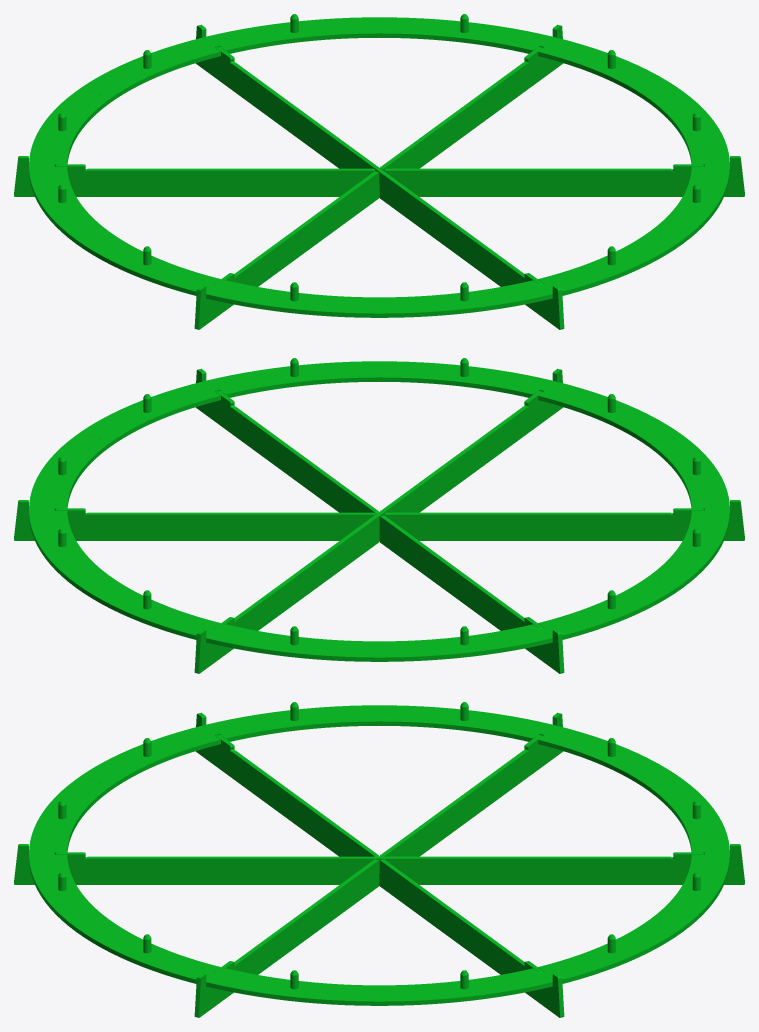
File: GABFL-DN600-0000.glb
3 views of the same model, one above another, from view 1: azimuth 30°, elevation 25°; view 2: azimuth 150°, elevation 25°; view 3: azimuth 270°, elevation 25° (orthographic).
Visible parts, largest first — view 1: GABFL-DN600-0000, GABFL-DN600-1002-1, GABFL-DN600-1005-1, GABFL-DN600-1004-3, GABFL-DN600-1004-1, GABFL-DN600-1001-7; view 2: GABFL-DN600-0000, GABFL-DN600-1005-1, GABFL-DN600-1002-1, GABFL-DN600-1001-7, GABFL-DN600-1004-1, GABFL-DN600-1004-3; view 3: GABFL-DN600-0000, GABFL-DN600-1002-1, GABFL-DN600-1005-1, GABFL-DN600-1001-7, GABFL-DN600-1004-3, GABFL-DN600-1004-1.
Boxes of the visible parts, <box> form: GABFL-DN600-0000: <box>29,14,729,317</box>; GABFL-DN600-1002-1: <box>195,24,564,329</box>; GABFL-DN600-1005-1: <box>194,24,563,329</box>; GABFL-DN600-1004-3: <box>383,156,744,196</box>; GABFL-DN600-1004-1: <box>14,156,375,196</box>; GABFL-DN600-1001-7: <box>372,231,682,317</box>; GABFL-DN600-0000: <box>29,358,729,661</box>; GABFL-DN600-1005-1: <box>14,500,744,540</box>; GABFL-DN600-1002-1: <box>194,368,563,673</box>; GABFL-DN600-1001-7: <box>379,361,682,447</box>; GABFL-DN600-1004-1: <box>379,515,564,673</box>; GABFL-DN600-1004-3: <box>195,368,378,514</box>; GABFL-DN600-0000: <box>58,702,729,1005</box>; GABFL-DN600-1002-1: <box>14,844,744,884</box>; GABFL-DN600-1005-1: <box>195,712,564,1017</box>; GABFL-DN600-1001-7: <box>29,779,108,931</box>; GABFL-DN600-1004-3: <box>194,859,379,1017</box>; GABFL-DN600-1004-1: <box>379,712,563,856</box>.
Bounding box in the file's own units: 0.6915 × 0.0511 × 0.7211.
